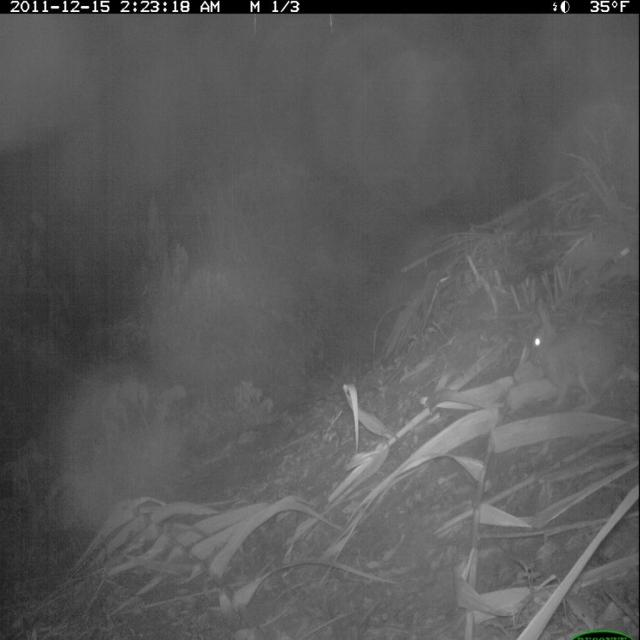rabbit: (523, 293, 628, 419)
